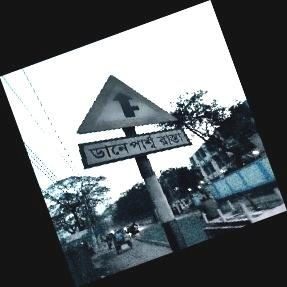Side-road-right: (76, 76, 188, 171)
